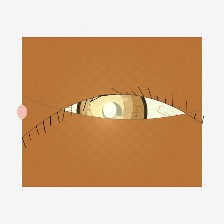corneal_ulcer: (77, 83, 137, 131)
